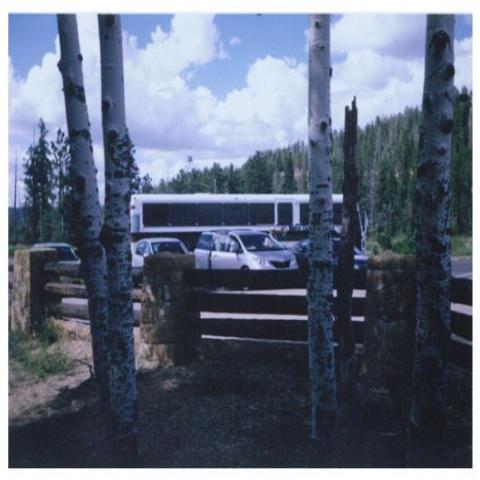bus: (130, 193, 344, 266)
car: (193, 229, 298, 267), (290, 237, 370, 270), (131, 236, 191, 267), (33, 243, 83, 270)
